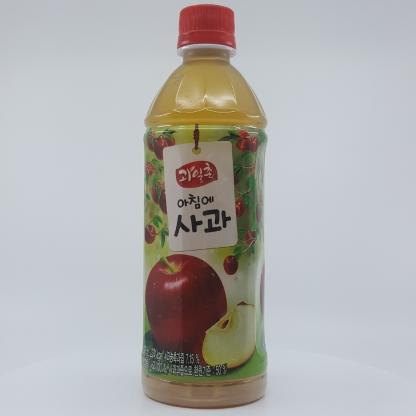--------500ML: (141, 4, 268, 408)
